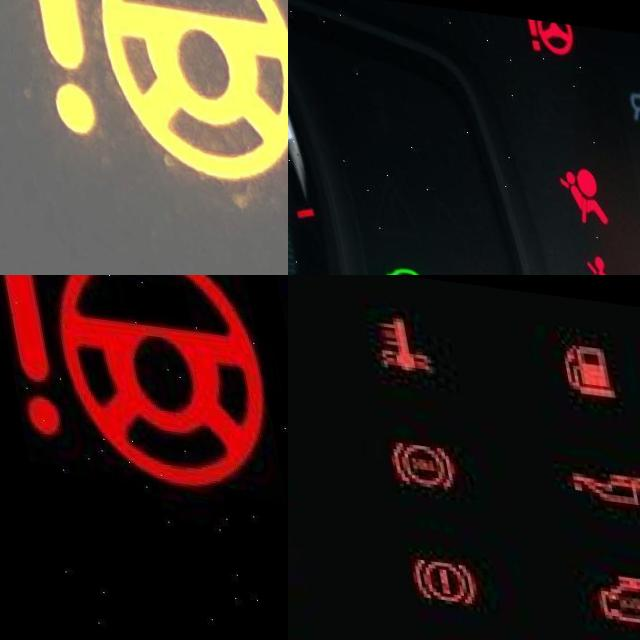Electronic Power Steering: (4, 0, 288, 187)
Electronic Power Steering Warning: (0, 275, 265, 489), (524, 8, 579, 43)
High Engine Coolant Temperature: (367, 299, 442, 371)
Seat Belt: (572, 242, 616, 275)
